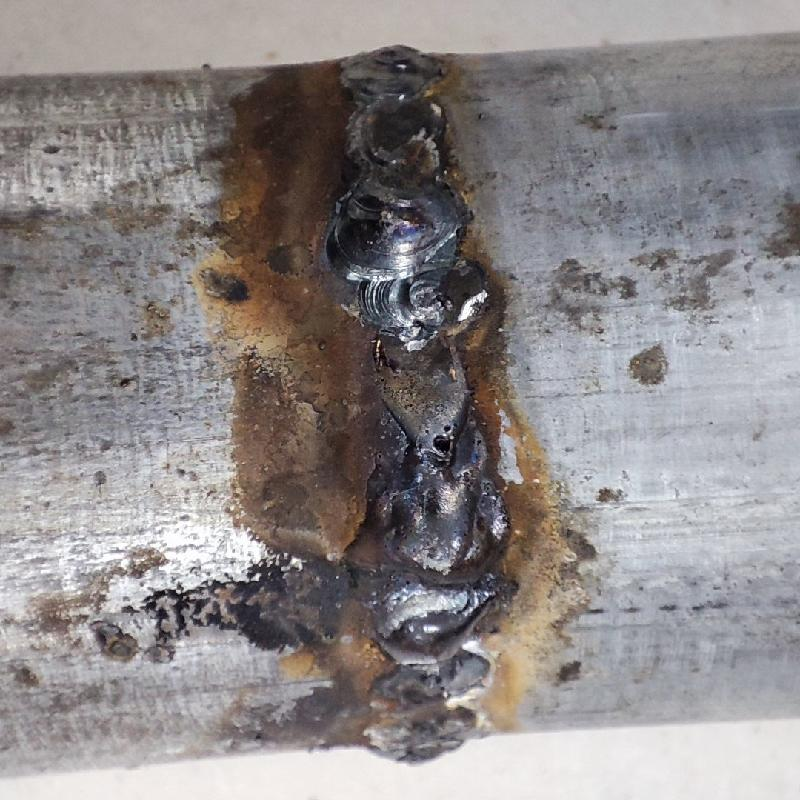Not_fully_soldered: (354, 275, 486, 461)
Surface_pores: (402, 402, 463, 466)
Weld: (351, 453, 509, 667)
wrong_size: (331, 38, 473, 285)
